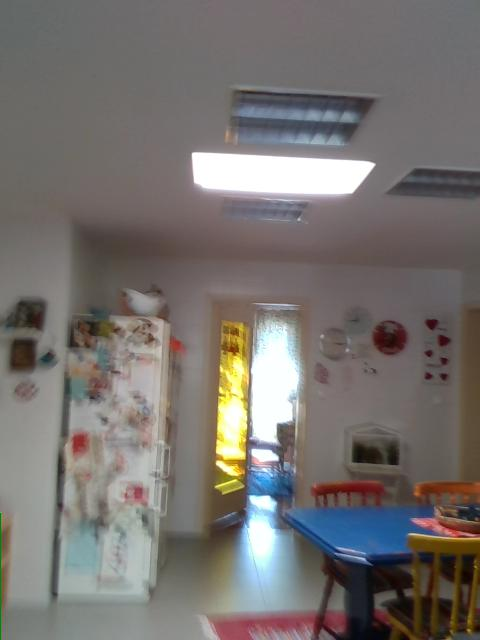semi_door: (198, 289, 309, 534)
